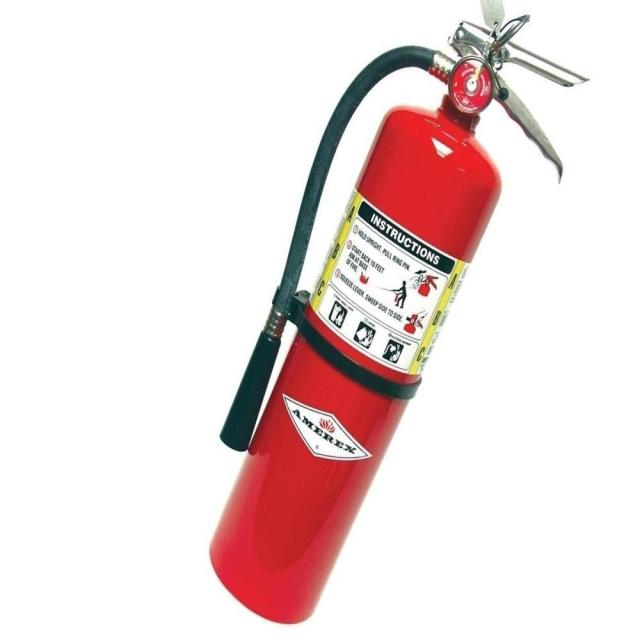fire_extinguisher: (199, 0, 593, 628)
